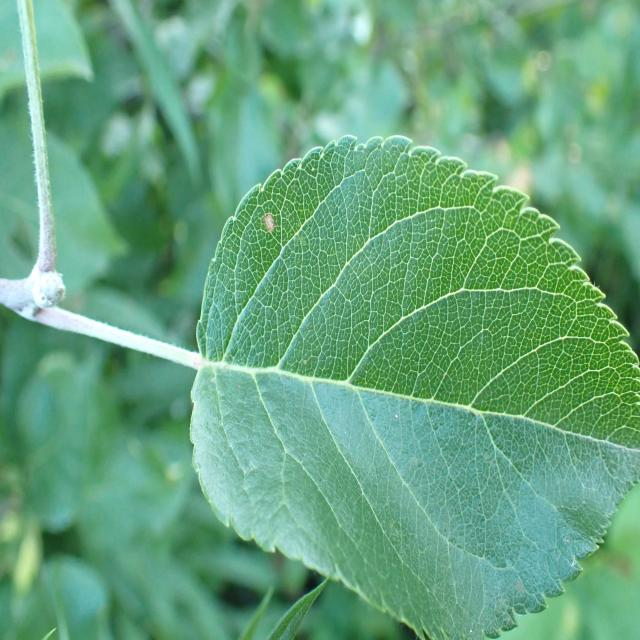Black Rot: (248, 200, 294, 251)
